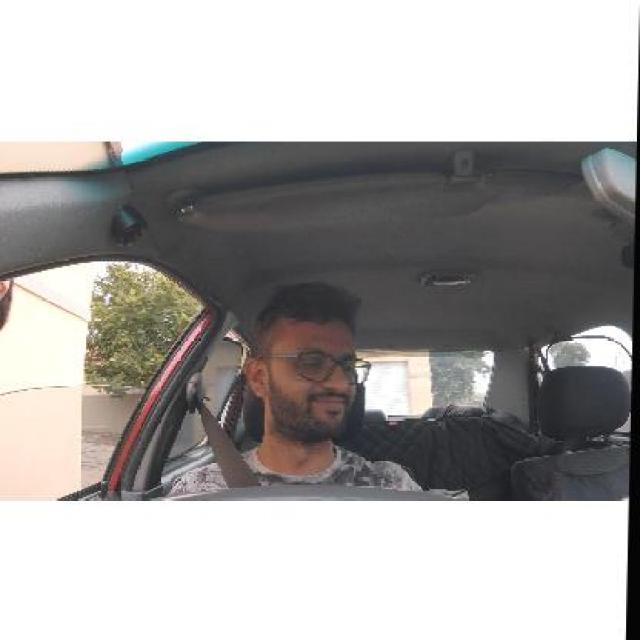person: (246, 296, 364, 436)
